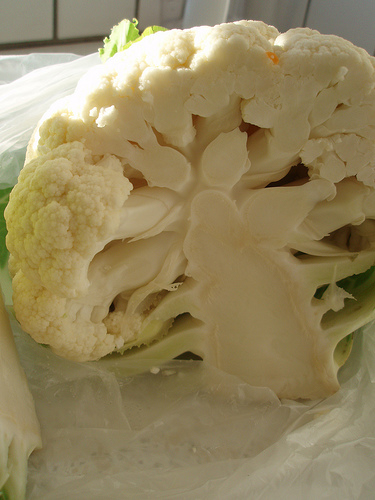cauliflower: (3, 16, 373, 406)
